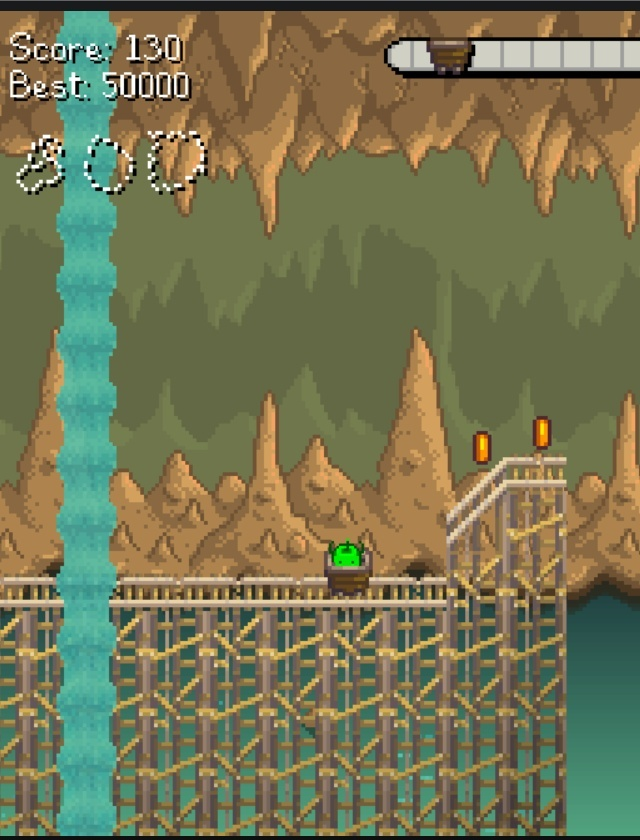coins: (533, 416, 551, 450), (473, 431, 491, 464)
minecart: (325, 540, 371, 592)
score: (127, 35, 183, 62)
tracks: (447, 458, 565, 546), (110, 576, 334, 609), (336, 577, 444, 608), (0, 578, 61, 605)
